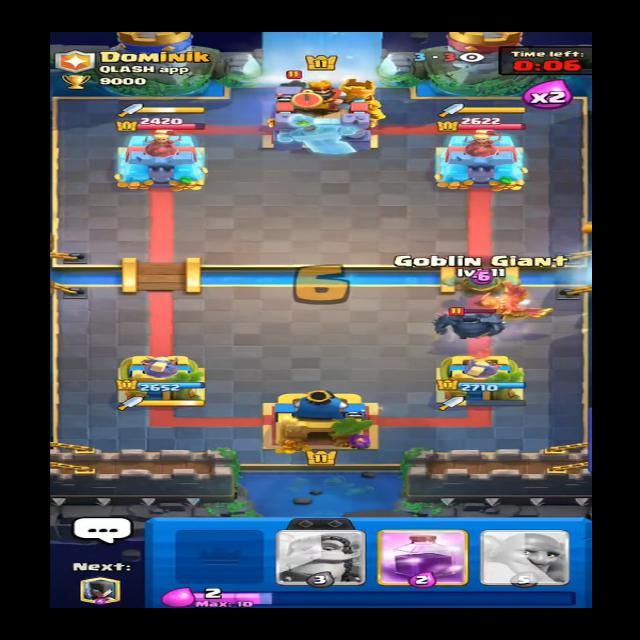bandit: (267, 68, 311, 92)
pekka: (428, 306, 511, 344)
